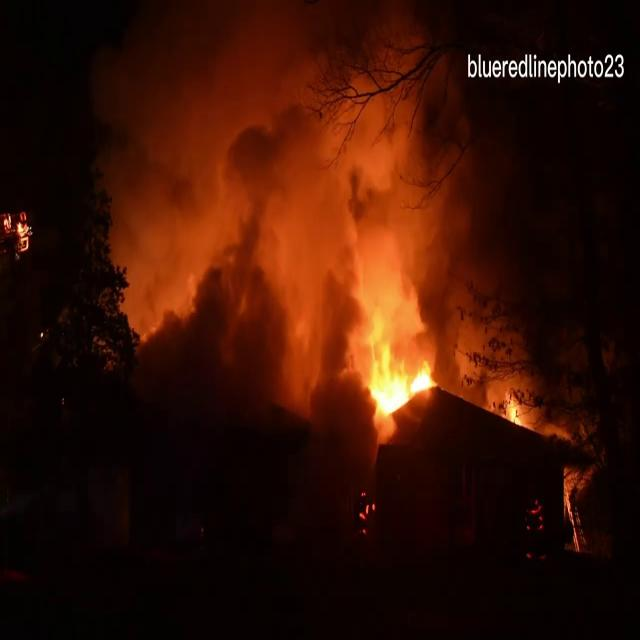Fire: (348, 292, 443, 427)
Smoke: (77, 1, 511, 331)
